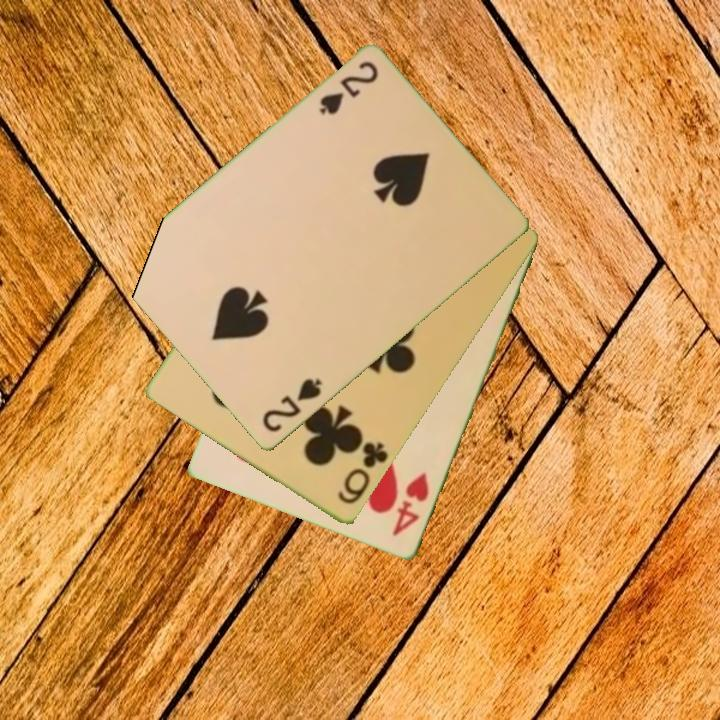2s: (258, 375, 325, 436), (315, 58, 381, 119)
4h: (388, 469, 432, 540)
6c: (334, 438, 392, 508)
